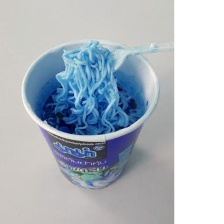paper_cup: (17, 33, 162, 195)
